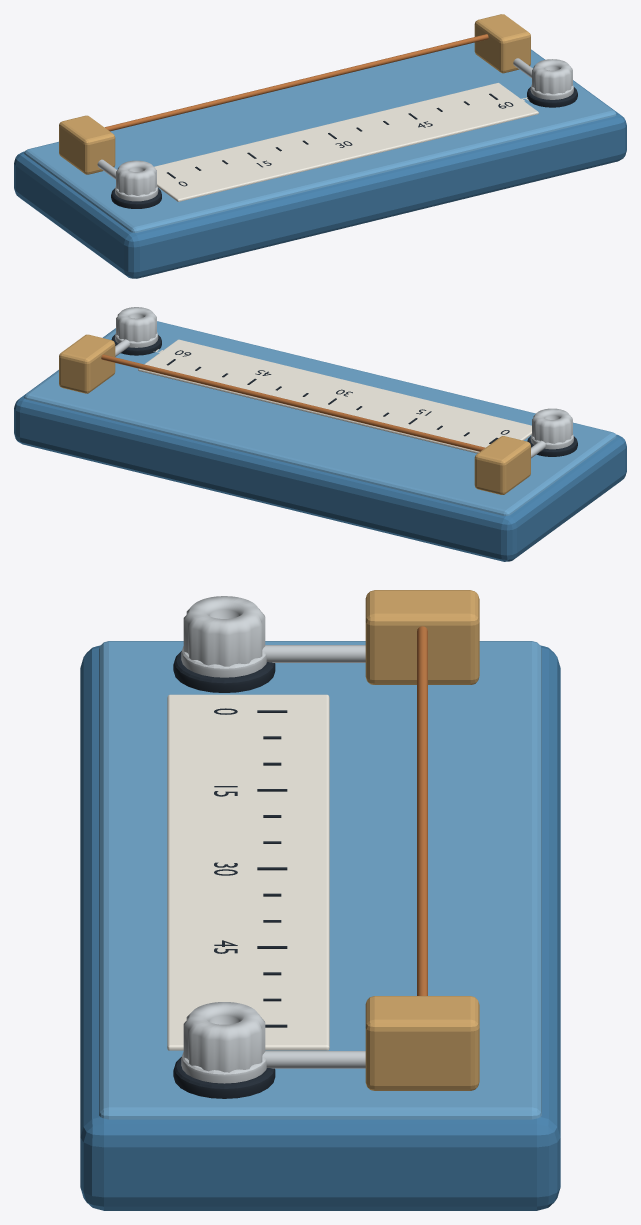
Rendered from resistance-wire.glb.
3 renders of one model, top to bottom at view 1: azimuth 30°, elevation 25°; view 2: azimuth 150°, elevation 25°; view 3: azimuth 270°, elevation 25°, orthographic. The views are drawn at different scales.
Visible parts, largest first — view 1: Fitted faceplate, Resistance wire experiment board, Ivory ruled length plate, Conductive end clamp, Conductive end clamp.001, Taut resistance wire, p binding socket, n binding socket, n socket washer, p socket washer; view 2: Fitted faceplate, Resistance wire experiment board, Ivory ruled length plate, Conductive end clamp, Conductive end clamp.001, Taut resistance wire, p binding socket, n binding socket, n socket washer, p socket washer; view 3: Fitted faceplate, Resistance wire experiment board, Ivory ruled length plate, Conductive end clamp.001, Conductive end clamp, n binding socket, p binding socket, Taut resistance wire, Clamp link, Clamp link.001, n socket washer, p socket washer (+2 smaller).
Part boxes in pixels (x1,y1,x2,y2): Fitted faceplate: (24,42,616,232); Resistance wire experiment board: (14,49,626,278); Ivory ruled length plate: (154,82,538,201); Conductive end clamp: (59,115,115,174); Conductive end clamp.001: (474,14,530,73); Taut resistance wire: (105,34,488,131); p binding socket: (116,160,156,195); n binding socket: (532,59,572,94); n socket washer: (527,87,577,107); p socket washer: (111,188,161,208); Fitted faceplate: (24,321,616,515); Resistance wire experiment board: (14,328,626,561); Ivory ruled length plate: (138,339,531,453); Conductive end clamp: (474,436,530,494); Conductive end clamp.001: (59,334,115,393); Taut resistance wire: (101,354,485,451); p binding socket: (532,408,572,443); n binding socket: (116,307,156,342); n socket washer: (111,334,161,355); p socket washer: (527,436,577,456); Fitted faceplate: (99,641,541,1119); Resistance wire experiment board: (80,645,560,1210); Ivory ruled length plate: (167,694,329,1050); Conductive end clamp.001: (365,996,479,1090); Conductive end clamp: (365,590,479,684); n binding socket: (183,1002,265,1072); p binding socket: (183,596,265,666); Taut resistance wire: (417,626,427,995); Clamp link: (262,645,365,662); Clamp link.001: (262,1051,365,1068); n socket washer: (173,1057,275,1098); p socket washer: (173,651,275,692).
Size of the model in its own units: 0.193 by 0.0325 by 0.08.
